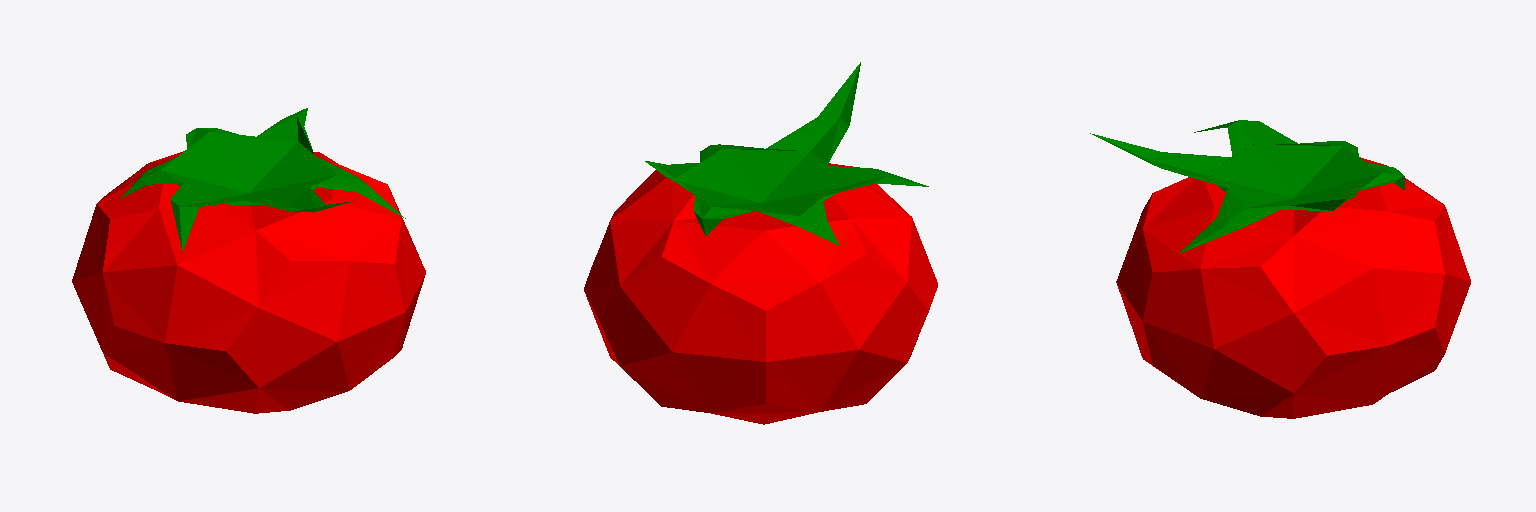
File: Tomato.obj
3 renders of one model, left to right at view 1: azimuth 30°, elevation 25°; view 2: azimuth 150°, elevation 25°; view 3: azimuth 270°, elevation 25°, orthographic.
Parts seen in each view (by area): view 1: pPlatonic1, pCylinder1; view 2: pPlatonic1, pCylinder1; view 3: pPlatonic1, pCylinder1.
Boxes of the visible parts, x1=… form: pPlatonic1: x1=72, y1=151, x2=425, y2=413; pCylinder1: x1=120, y1=108, x2=405, y2=251; pPlatonic1: x1=584, y1=163, x2=937, y2=424; pCylinder1: x1=645, y1=62, x2=928, y2=245; pPlatonic1: x1=1116, y1=157, x2=1470, y2=418; pCylinder1: x1=1090, y1=120, x2=1404, y2=253.
Size of the model in its own units: 1.96 by 1.54 by 2.16.